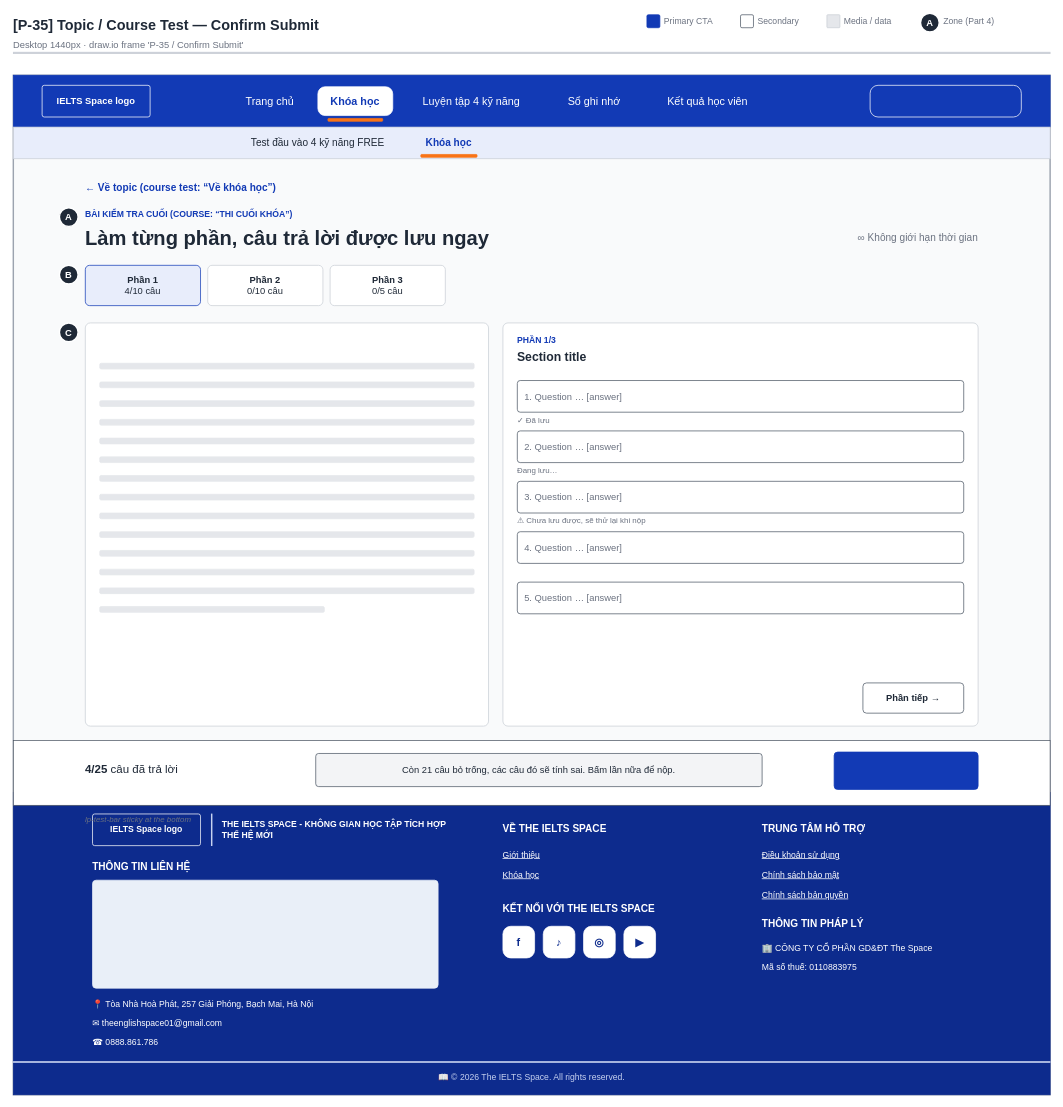
The diagram is 1063 pixels wide and 1107 high, and some of its shapes have lost their labels. Each missing label, with the centre of its shape:
"Section AudioBlock / PassageBlock" goes at (x=287, y=524).
"◯ Học viên · 30 Points ▾" goes at (x=945, y=101).
"➤ Vẫn nộp bài" goes at (x=905, y=770).
"📍 The IELTS Space Mở trong Maps ↗" goes at (x=265, y=933).
